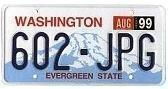placa de veiculo: (4, 5, 164, 83)
